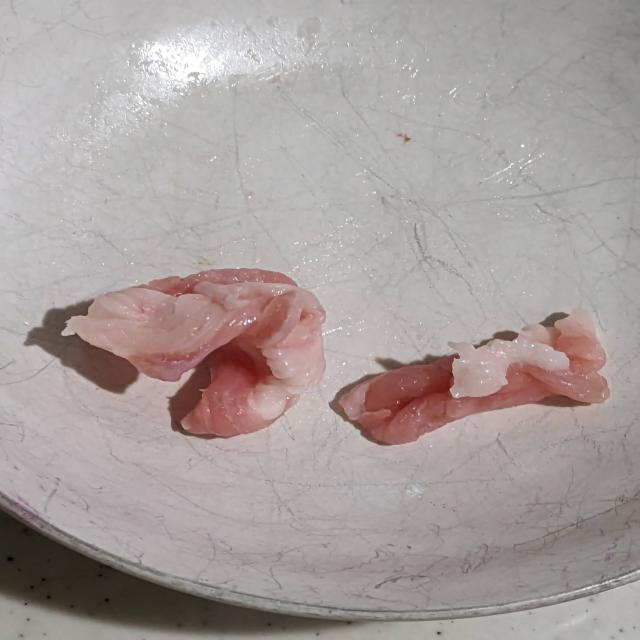NG raw pork,: (43, 260, 332, 450), (322, 299, 626, 458)
